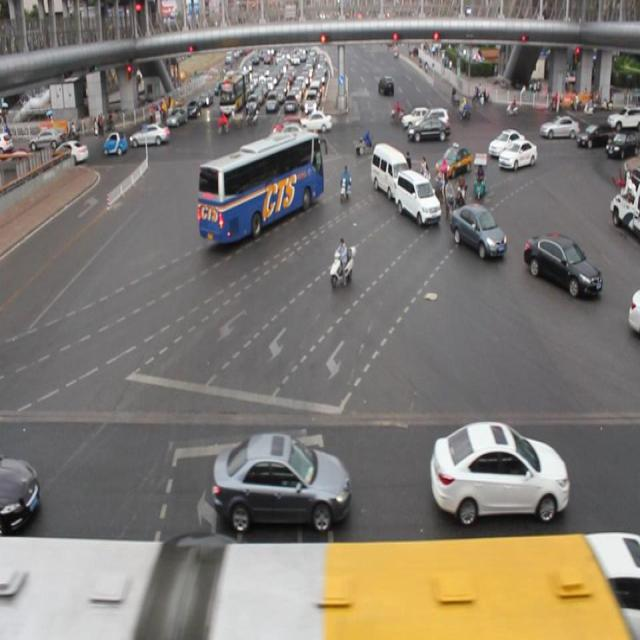car: (130, 524, 271, 624), (430, 418, 567, 519), (213, 436, 350, 531), (565, 525, 640, 626), (524, 229, 601, 296), (0, 443, 40, 532), (448, 200, 506, 260), (434, 143, 469, 177), (499, 142, 536, 170), (408, 117, 450, 141), (540, 115, 578, 140), (624, 281, 640, 335), (489, 129, 521, 152), (282, 120, 308, 140), (272, 118, 297, 137)
truck: (396, 171, 440, 225), (370, 140, 408, 198)
van: (1, 532, 620, 640), (196, 130, 324, 249)
